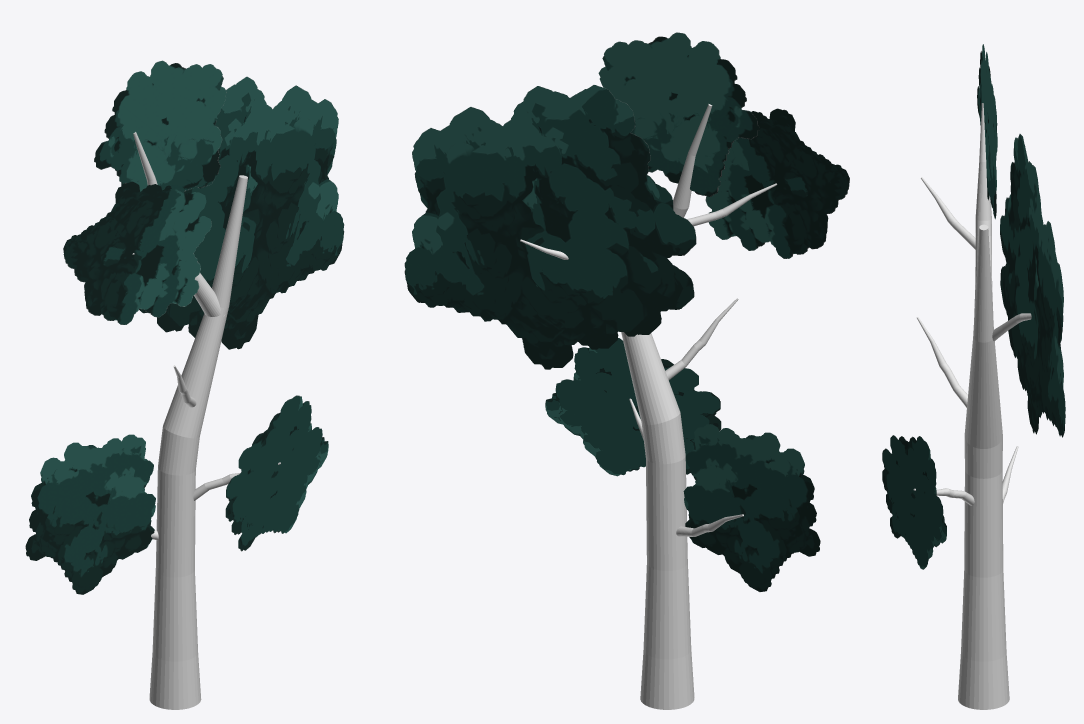
3 renders of one model, left to right at view 1: azimuth 30°, elevation 25°; view 2: azimuth 150°, elevation 25°; view 3: azimuth 270°, elevation 25°, orthographic. The views are drawn at different scales.
Parts seen in each view (by area): view 1: untitled, Cylinder; view 2: untitled, Cylinder; view 3: untitled, Cylinder.
Boxes of the visible parts, x1=… form: untitled: x1=25, y1=60, x2=344, y2=594; Cylinder: x1=132, y1=132, x2=280, y2=709; untitled: x1=404, y1=32, x2=849, y2=591; Cylinder: x1=520, y1=104, x2=777, y2=709; untitled: x1=882, y1=44, x2=1065, y2=569; Cylinder: x1=913, y1=103, x2=1031, y2=709.
Size of the model in its own units: 433 by 693 by 185.
2 materials, 1 textured.
